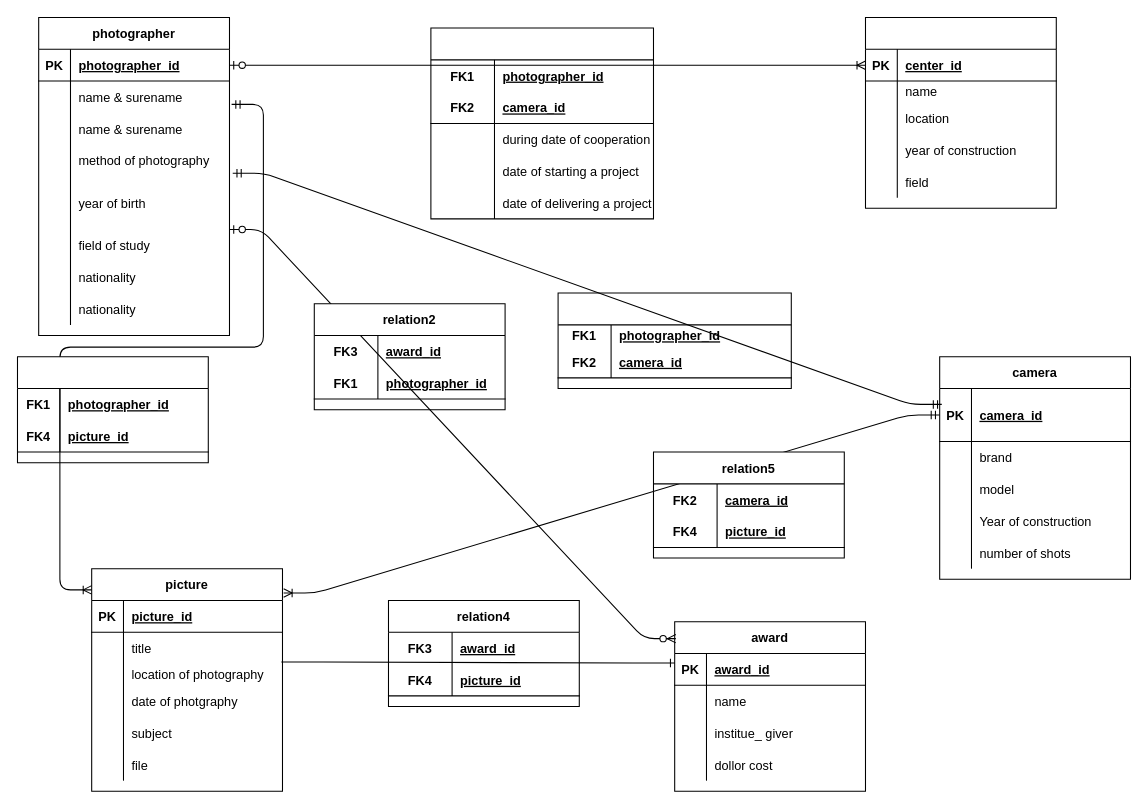
This 1148x809 diagram has some shape labels left out. Here are the shapes that lost their labels. From the top down, the box of each, then its label:
(430, 27, 653, 219): cooperation history
(864, 16, 1056, 208): centers
(557, 292, 791, 388): relation1
(16, 356, 208, 463): relation3
